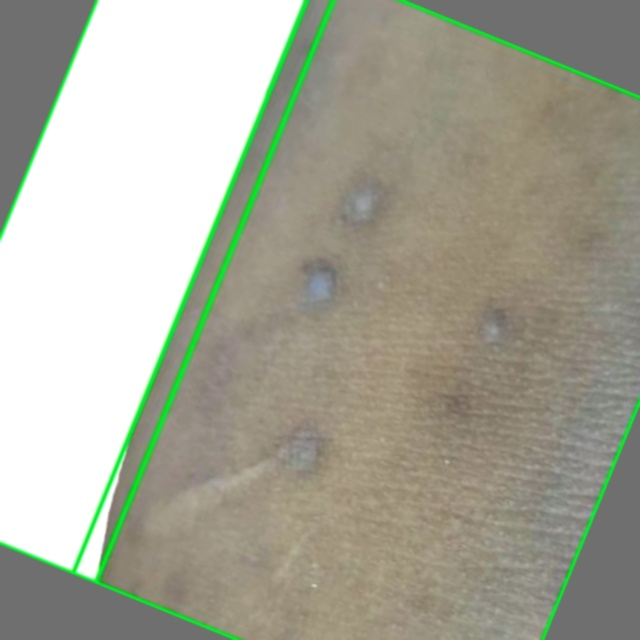Scabies: (73, 0, 639, 639), (0, 0, 333, 582)
